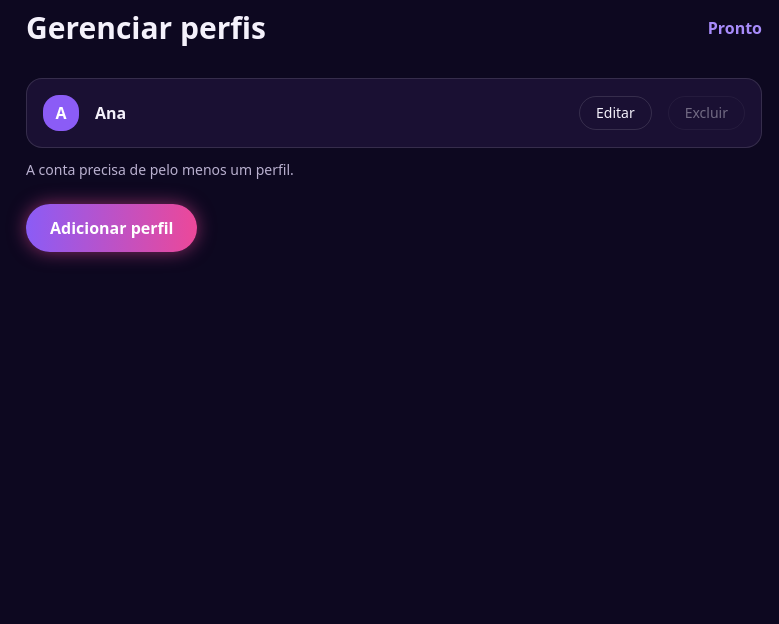
it: Gerenciar perfis › a faixa só aparece para perfis Kids
Click the button "Adicionar perfil".
click(112, 228)  # box [26,204,198,252]
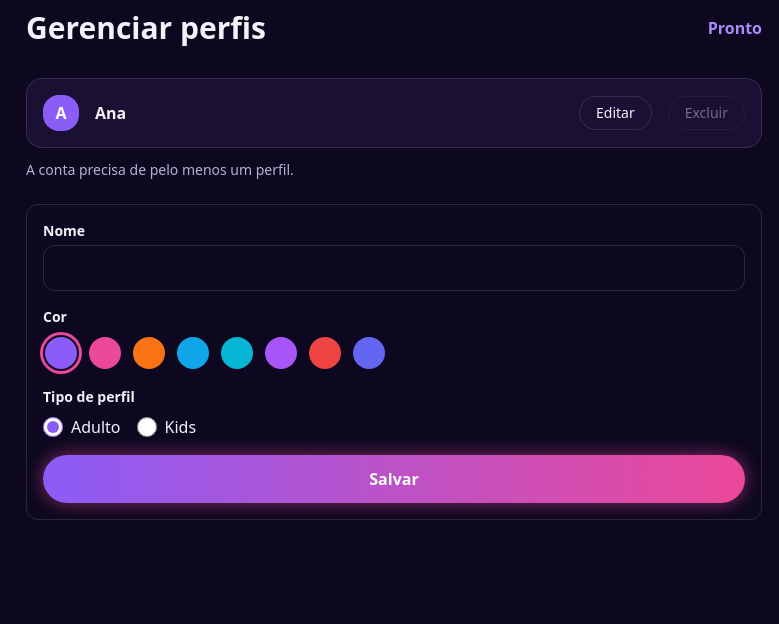
Expected: the field labelled "Classificação máxima" is not shown
Click the radio button labelled "Kids".
click(146, 427)  # box [136,417,156,437]
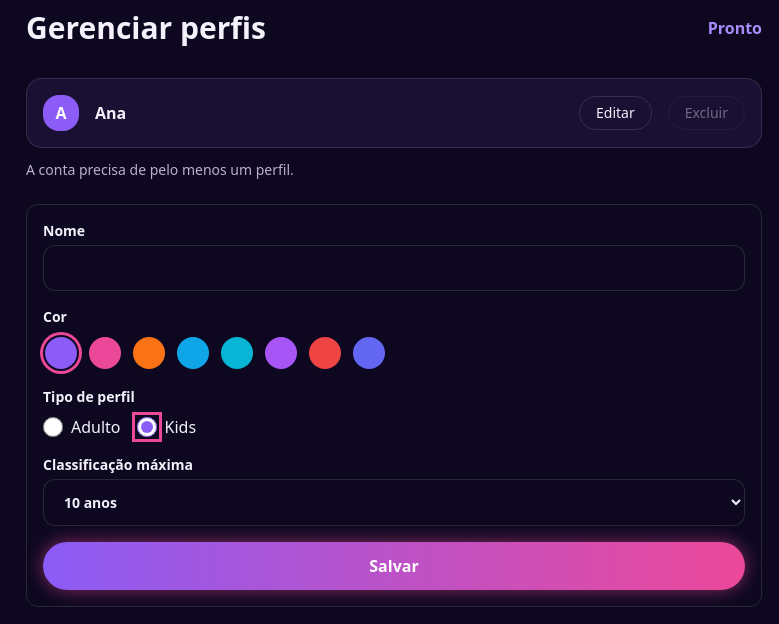
Expected: the dropdown labelled "Classificação máxima" is shown, [43,479,745,526]
